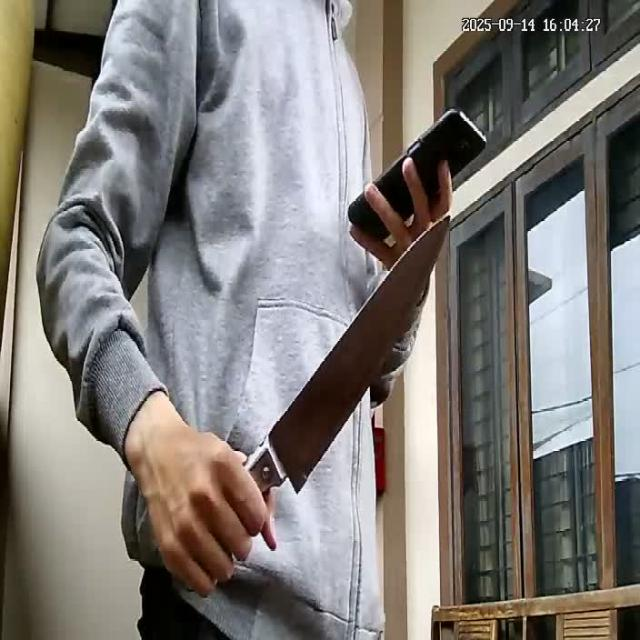senjata_tajam: (256, 212, 454, 494)
